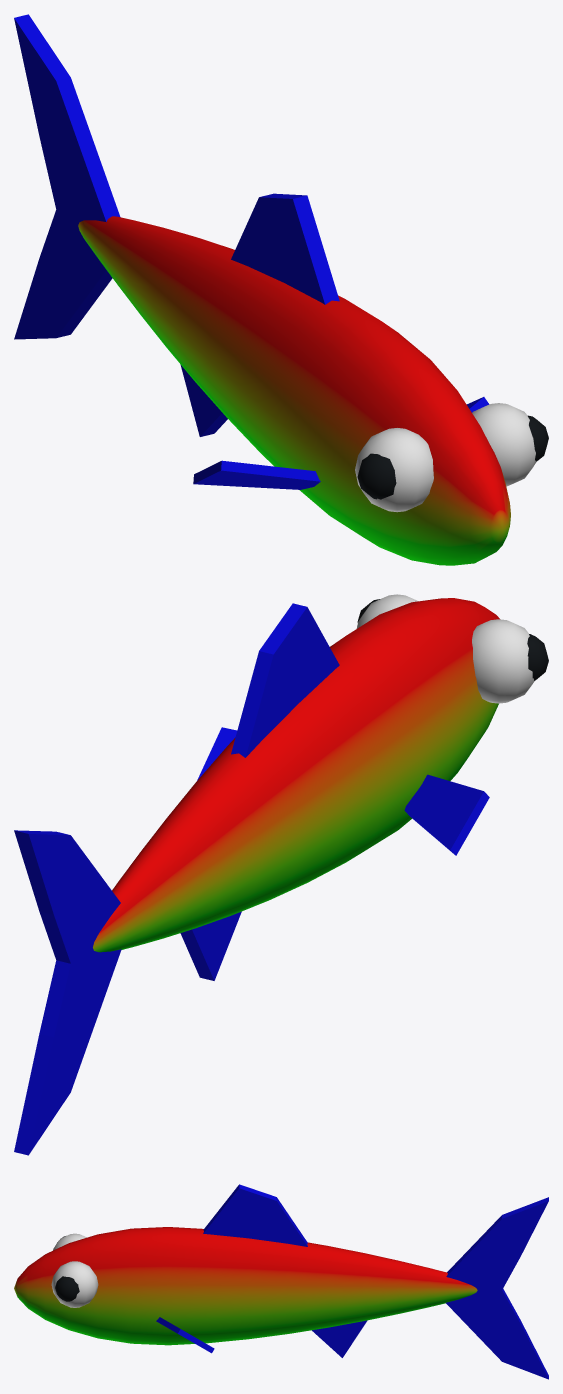
File: fish_slim.glb
The picture shows the model from 3 angles, top to bottom: view 1: azimuth 30°, elevation 25°; view 2: azimuth 150°, elevation 25°; view 3: azimuth 270°, elevation 25°; orthographic projection. The views are drawn at different scales.
Visible parts, largest first — view 1: Body, Eye; view 2: Body, Eye; view 3: Body, Eye.
Part boxes in pixels (bbox=[...]): Body: bbox=[14, 14, 510, 565]; Eye: bbox=[355, 403, 548, 512]; Body: bbox=[14, 598, 499, 1155]; Eye: bbox=[356, 594, 548, 703]; Body: bbox=[14, 1184, 548, 1379]; Eye: bbox=[51, 1233, 98, 1307].
Size of the model in its own units: 0.3673 by 0.45 by 1.14.
